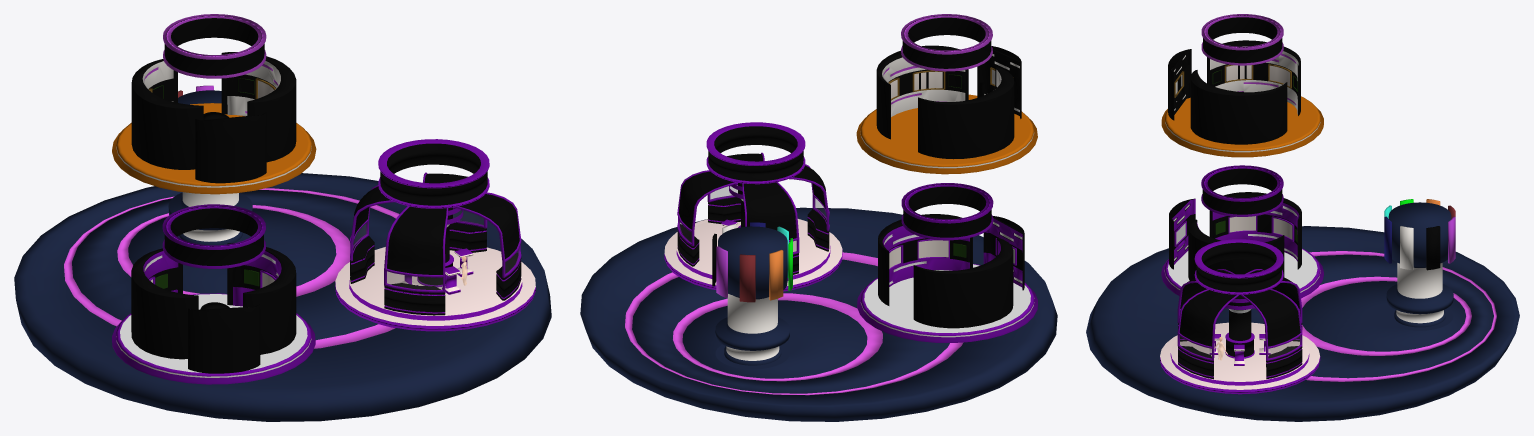
The model's file is permainan.glb.
3 renders of one model, left to right at view 1: azimuth 30°, elevation 25°; view 2: azimuth 150°, elevation 25°; view 3: azimuth 270°, elevation 25°, orthographic. The views are drawn at different scales.
Visible parts, largest first — view 1: Floor_Ruangan_Animasi, Booth_aset_3d_animasi, BOOTH_FILM, BOOTH_FILM.001, Tiang tengah; view 2: Floor_Ruangan_Animasi, BOOTH_FILM, BOOTH_FILM.001, Booth_aset_3d_animasi, Tiang tengah, AN_VID_Slot9; view 3: Floor_Ruangan_Animasi, Booth_aset_3d_animasi, BOOTH_FILM, BOOTH_FILM.001, Tiang tengah.
Part boxes in pixels (x1,y1,x2,y2): Floor_Ruangan_Animasi: (14, 173, 551, 421); Booth_aset_3d_animasi: (335, 139, 535, 331); BOOTH_FILM: (112, 14, 316, 194); BOOTH_FILM.001: (112, 204, 315, 384); Tiang tengah: (168, 85, 252, 245); Floor_Ruangan_Animasi: (580, 207, 1057, 421); BOOTH_FILM: (856, 14, 1037, 174); BOOTH_FILM.001: (857, 183, 1037, 342); Booth_aset_3d_animasi: (664, 122, 842, 291); Tiang tengah: (712, 222, 792, 369); AN_VID_Slot9: (918, 240, 948, 258); Floor_Ruangan_Animasi: (1086, 226, 1519, 421); Booth_aset_3d_animasi: (1160, 239, 1320, 394); BOOTH_FILM: (1161, 14, 1323, 157); BOOTH_FILM.001: (1161, 165, 1323, 308); Tiang tengah: (1384, 199, 1455, 330).
Bounding box in the file's own units: 22.31 × 15.02 × 22.76.
Materials: 26 (2 with a texture image).
